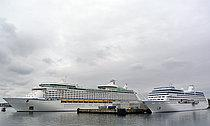Ship: (1, 75, 144, 119), (141, 85, 210, 119)
